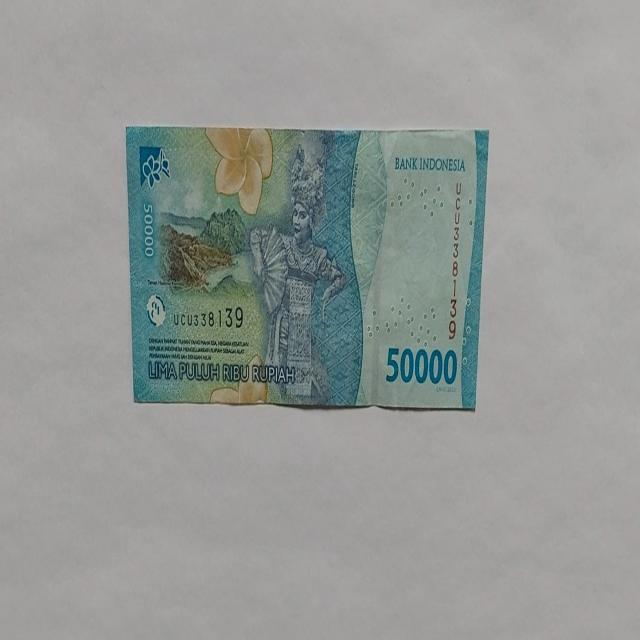lima puluh ribu rupiah: (126, 124, 490, 410)
